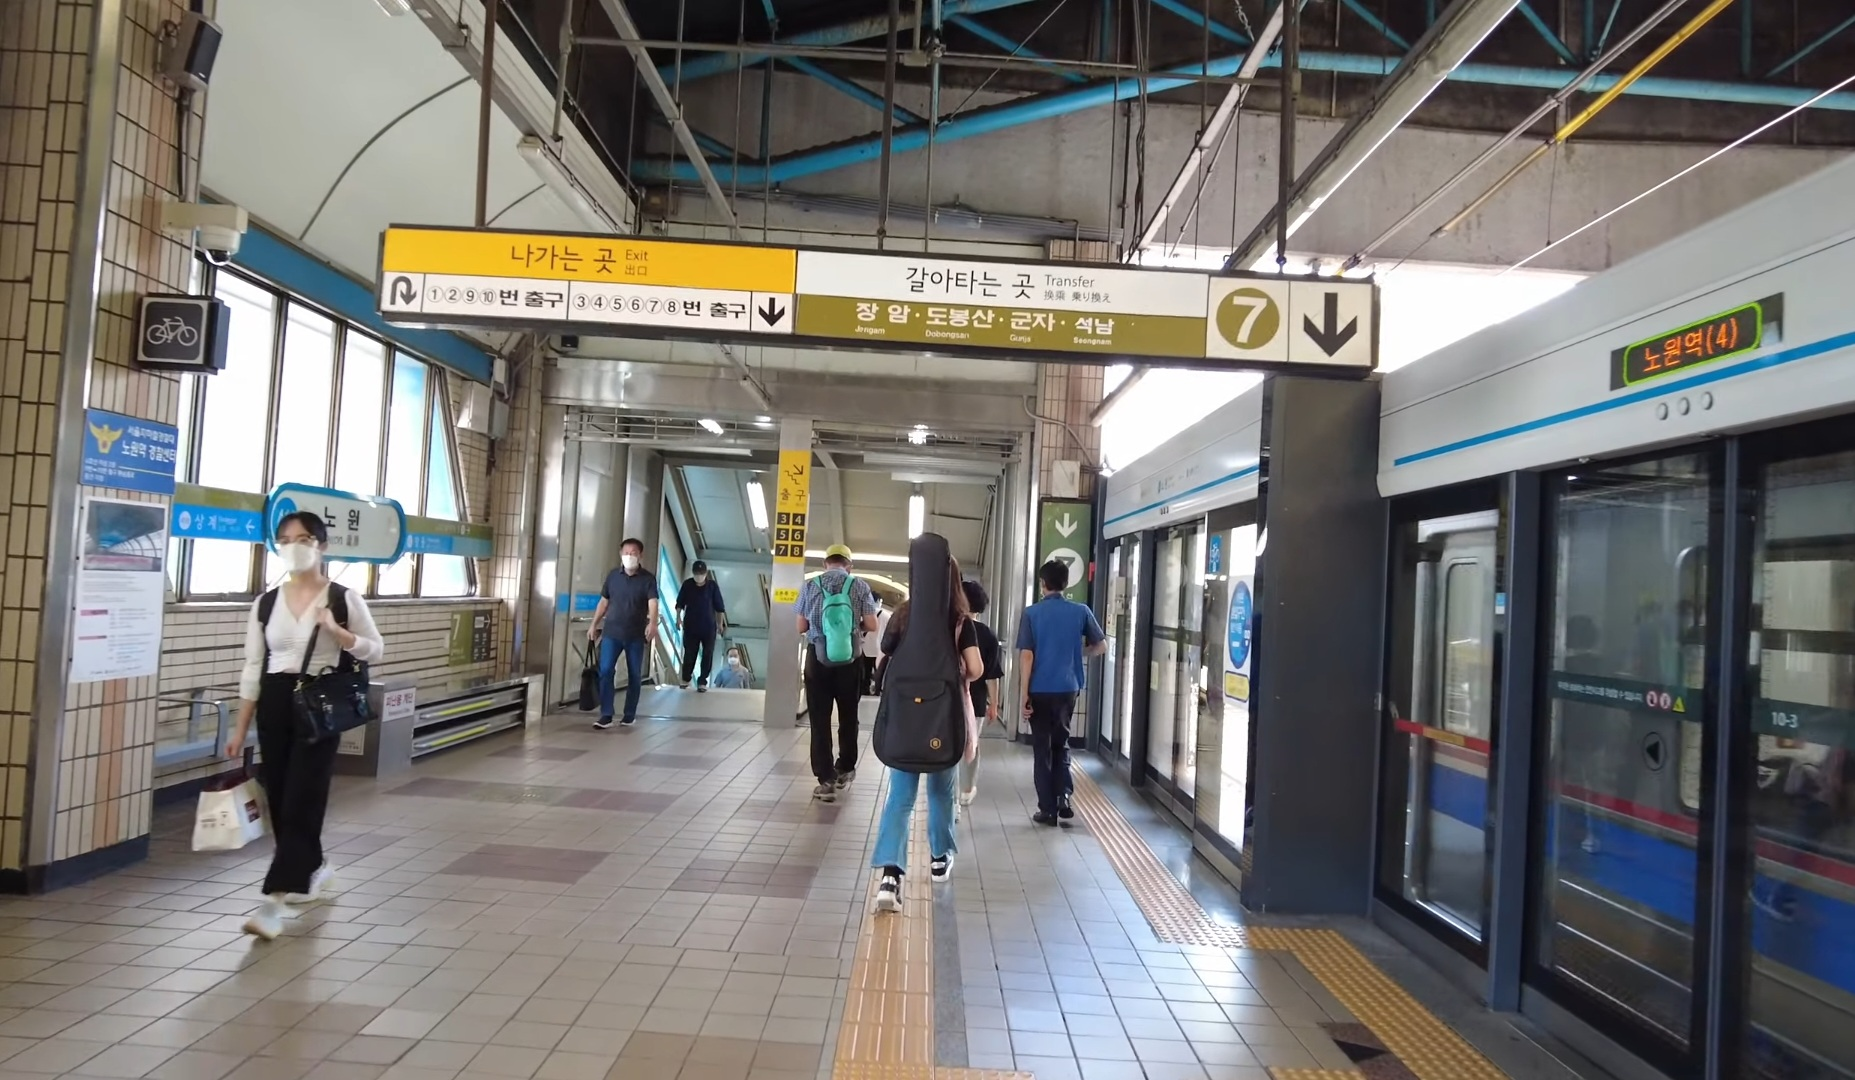signBoard: (368, 211, 1388, 386)
